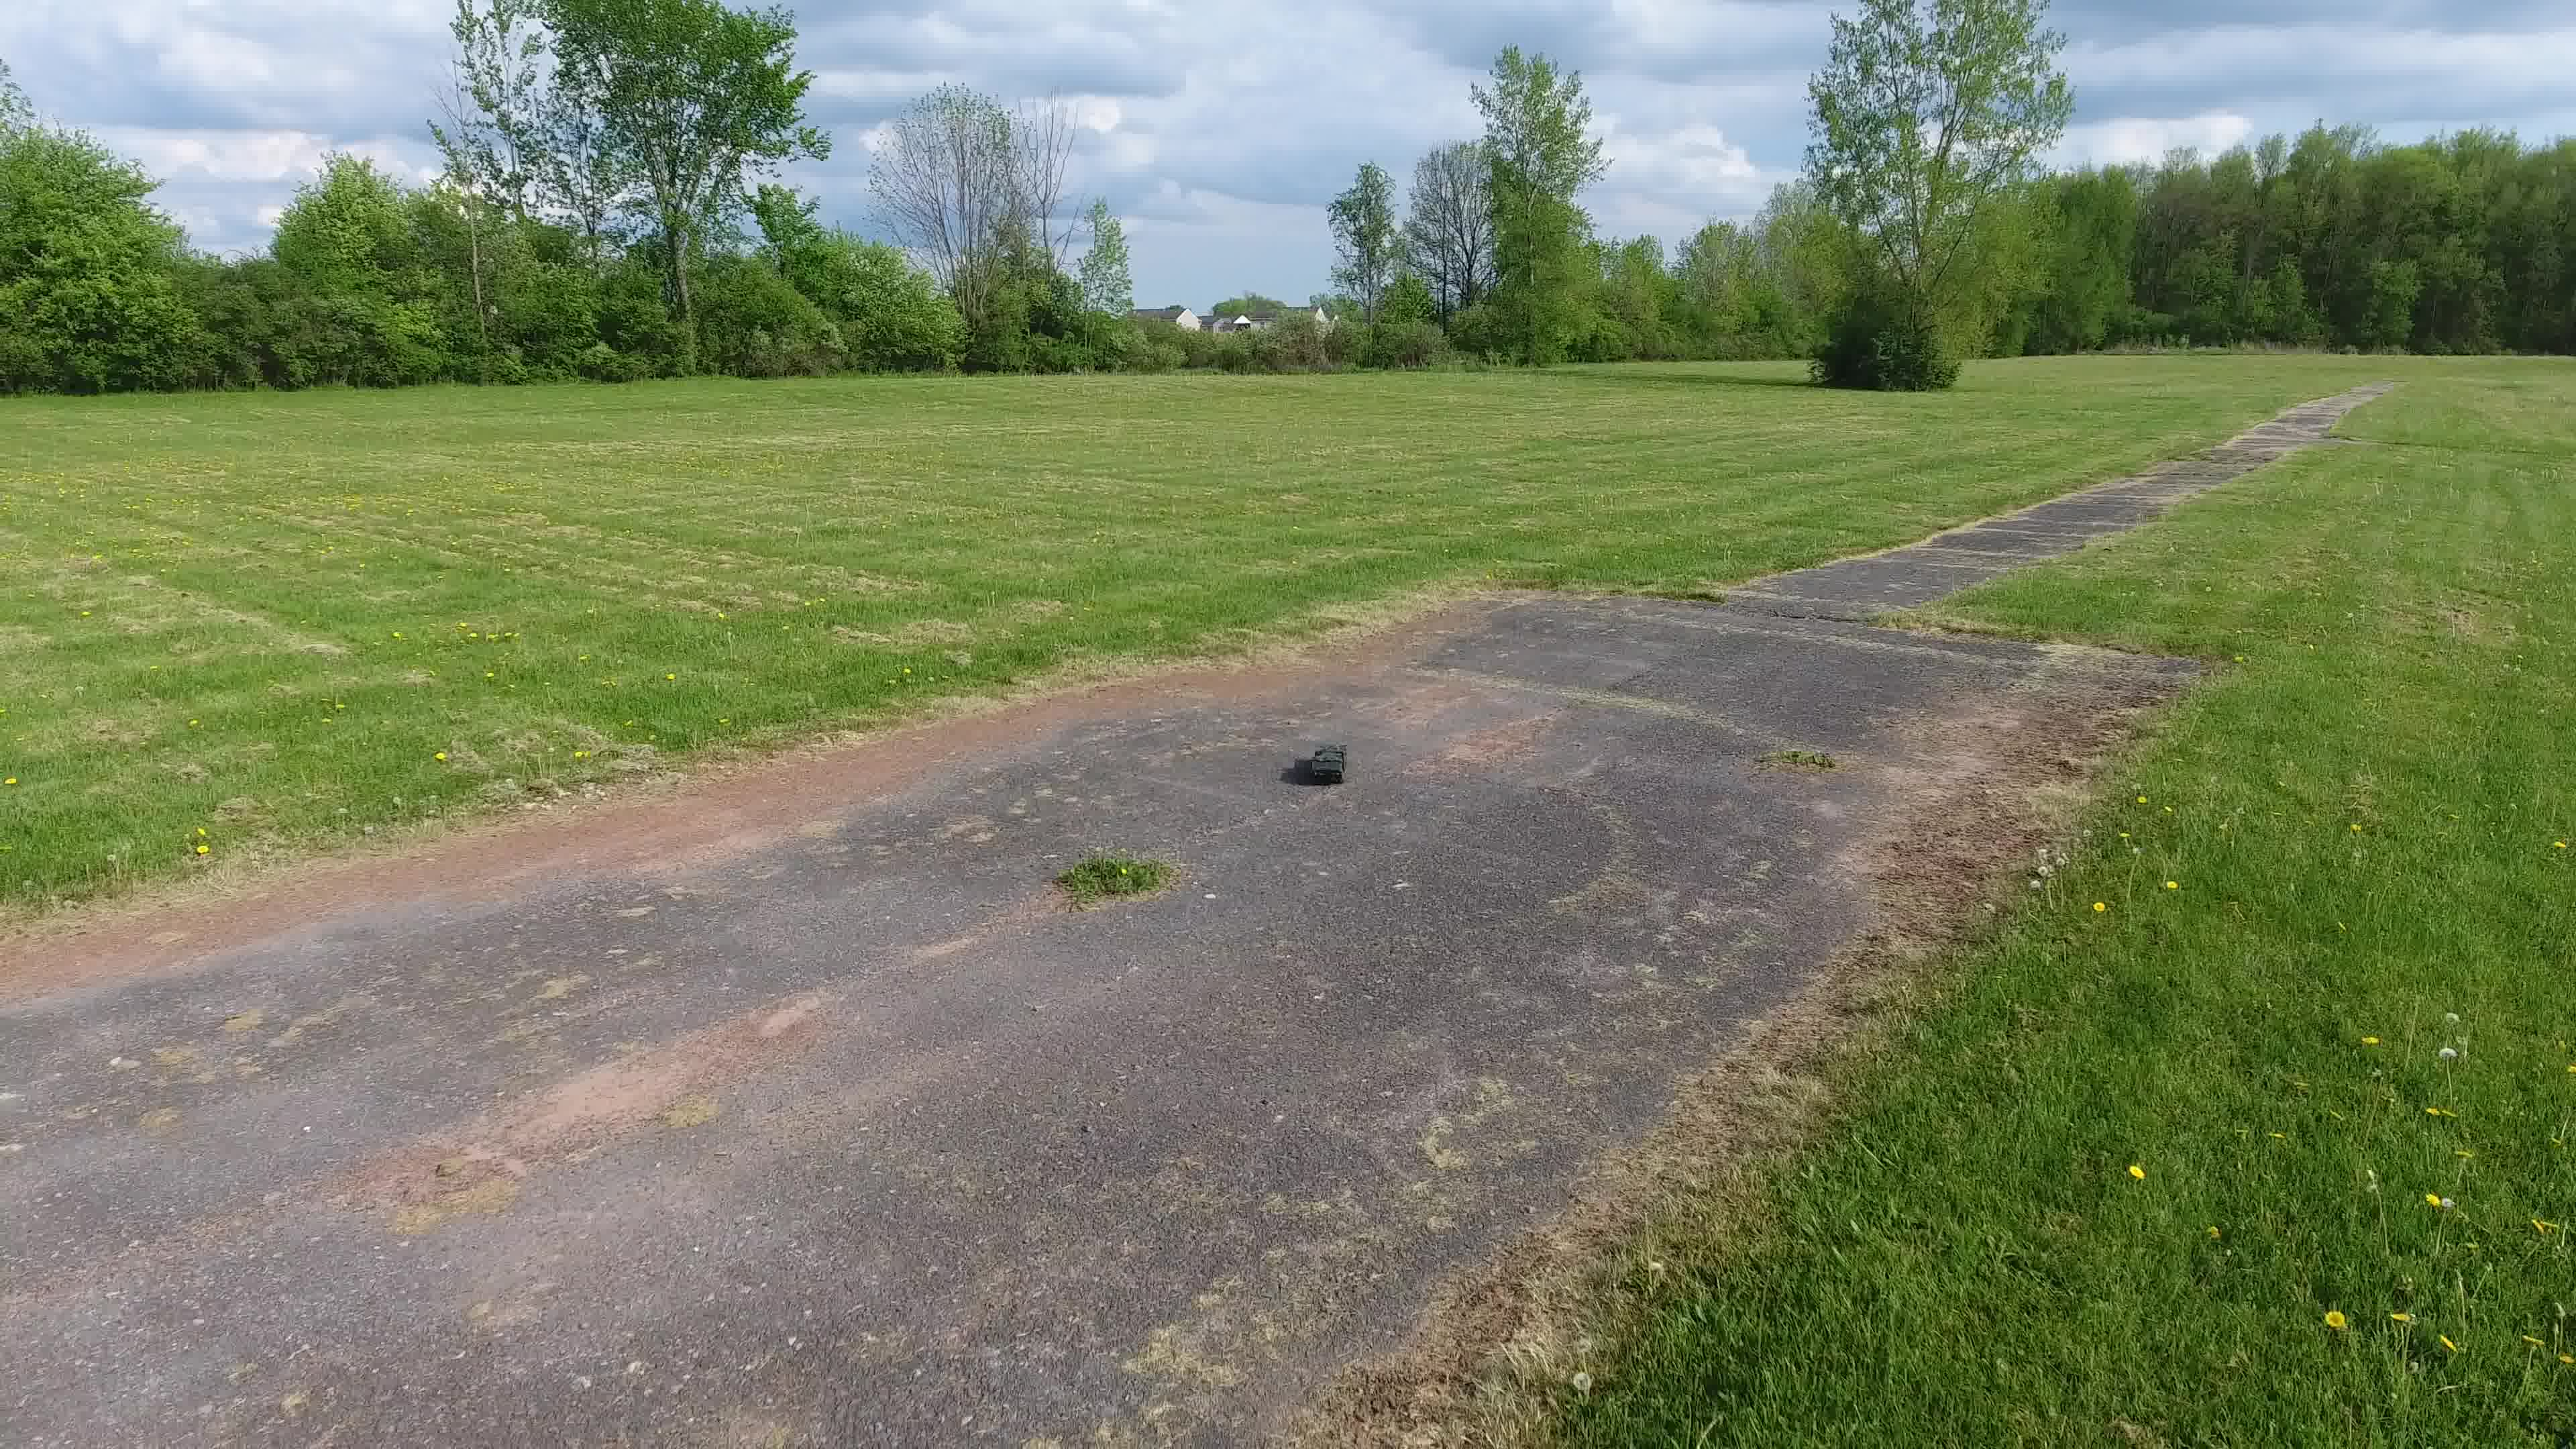transporter9_camo: (1304, 741, 1350, 786)
